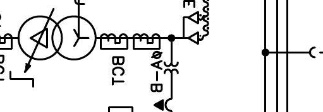11522_tx_dyn1: (17, 15, 97, 61)
terminator_double: (182, 11, 199, 45)
